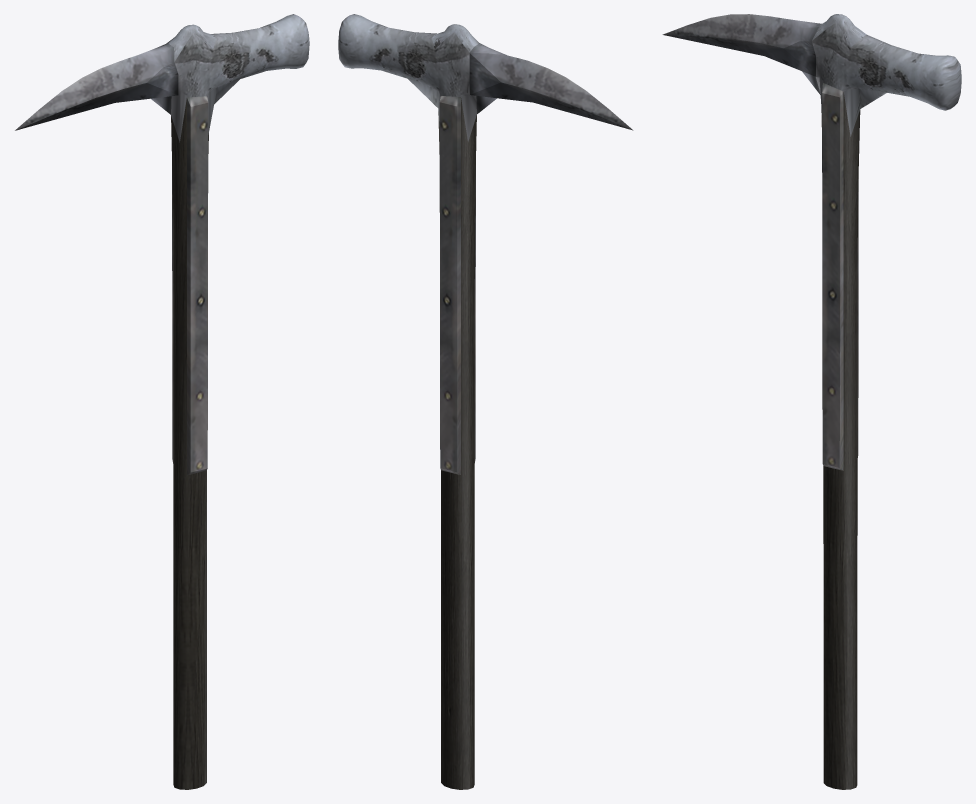
Rendered from hammer.fbx.
3 renders of one model, left to right at view 1: azimuth 30°, elevation 25°; view 2: azimuth 150°, elevation 25°; view 3: azimuth 330°, elevation 25°, orthographic.
Parts seen in each view (by area): view 1: hammer_01_LOD0; view 2: hammer_01_LOD0; view 3: hammer_01_LOD0.
Part boxes in pixels (x1,y1,x2,y2): hammer_01_LOD0: [15, 14, 309, 789]; hammer_01_LOD0: [338, 14, 633, 789]; hammer_01_LOD0: [662, 14, 961, 789].
Size of what is drawn, in the model's own units: 29.64 by 73.58 by 3.37.
